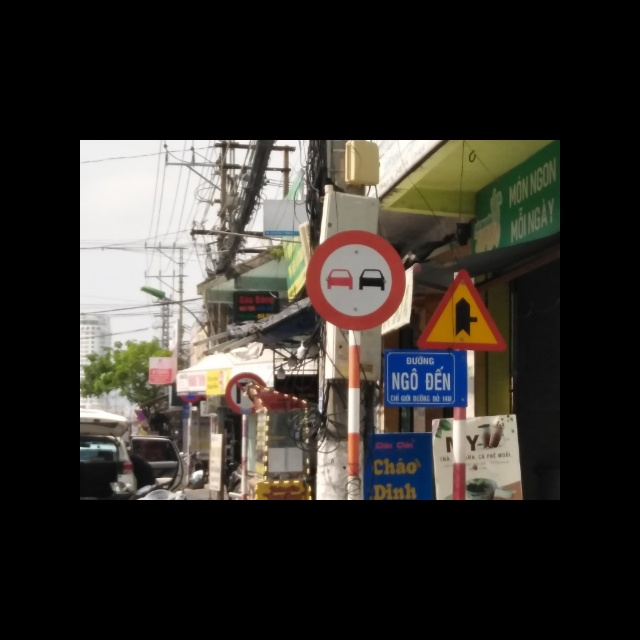Cấm vượt: (304, 229, 407, 333)
Giao nhau với đường không ưu tiên: (416, 266, 508, 352)
